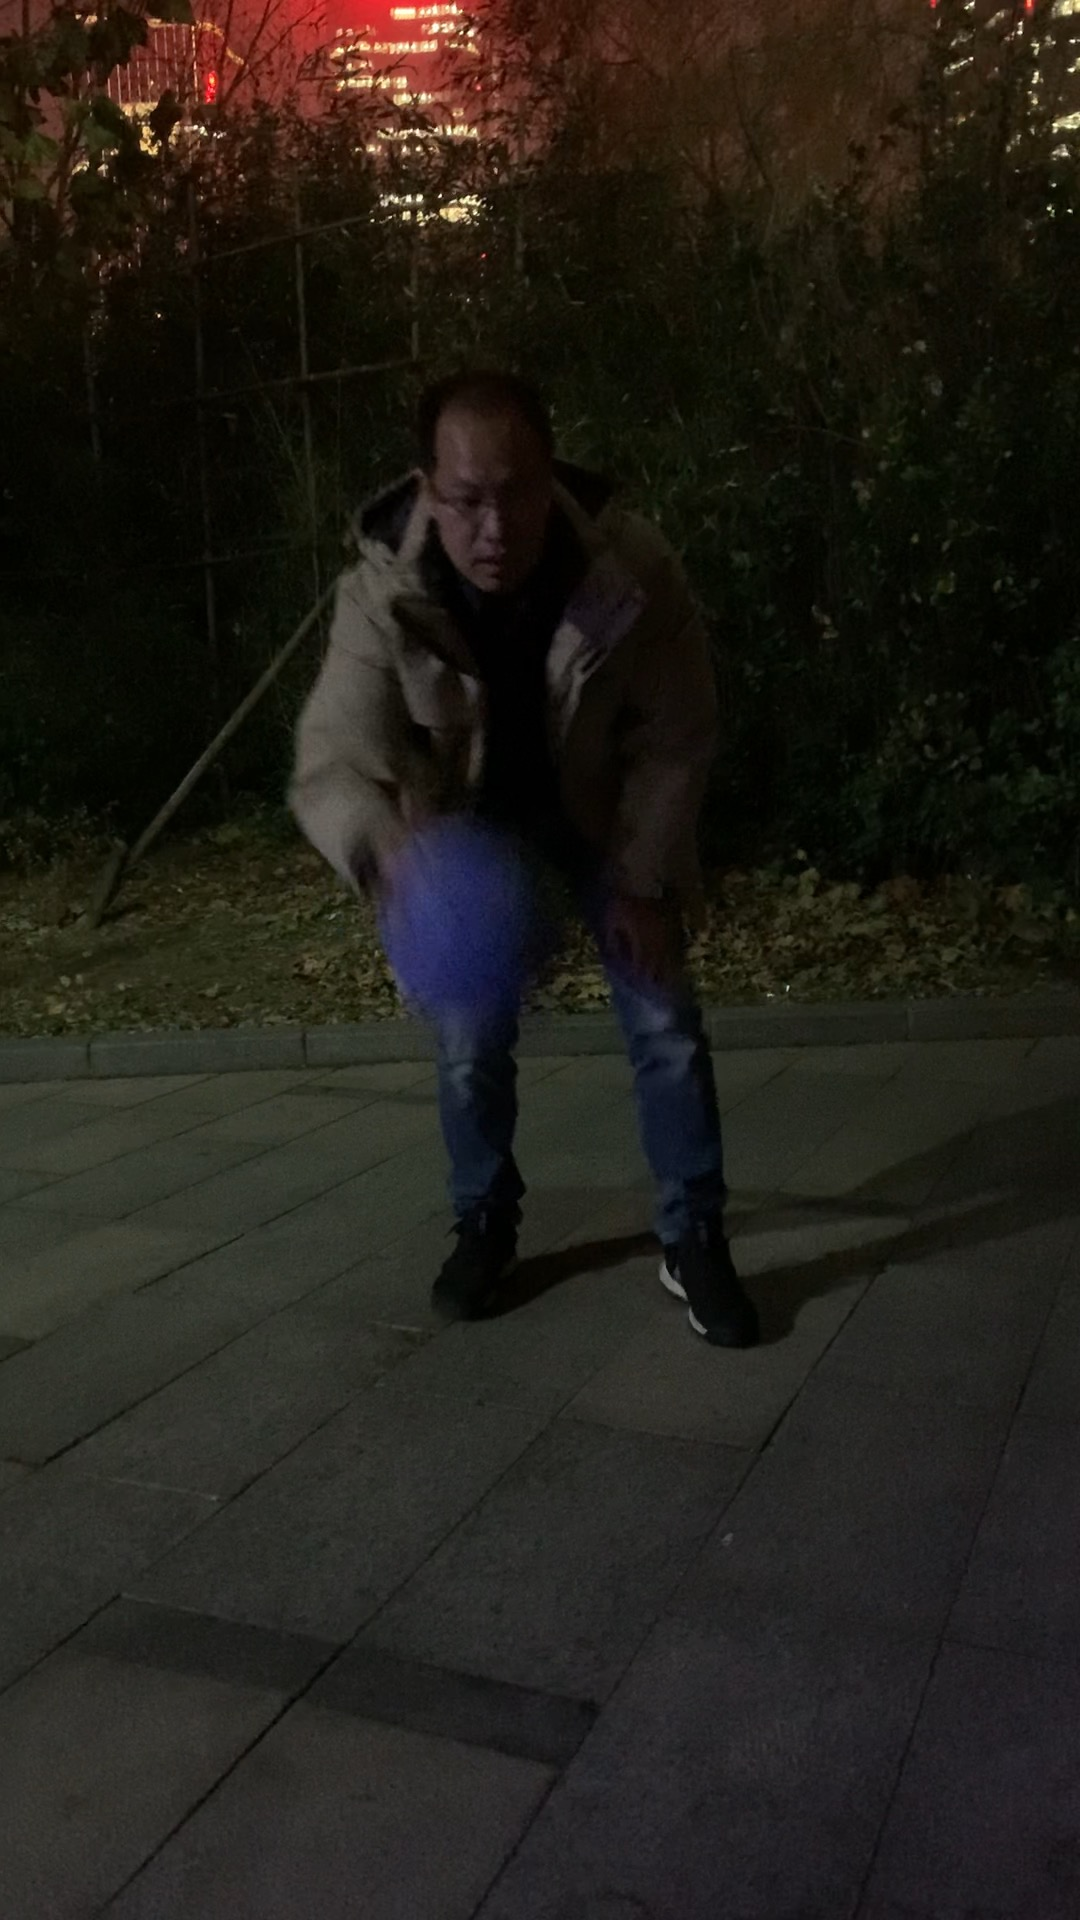ball: (381, 837, 575, 1023)
